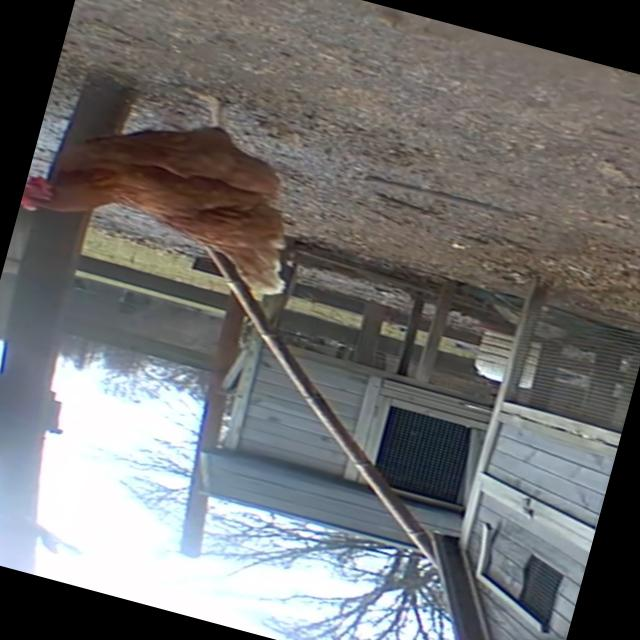walking: (8, 46, 340, 325)
